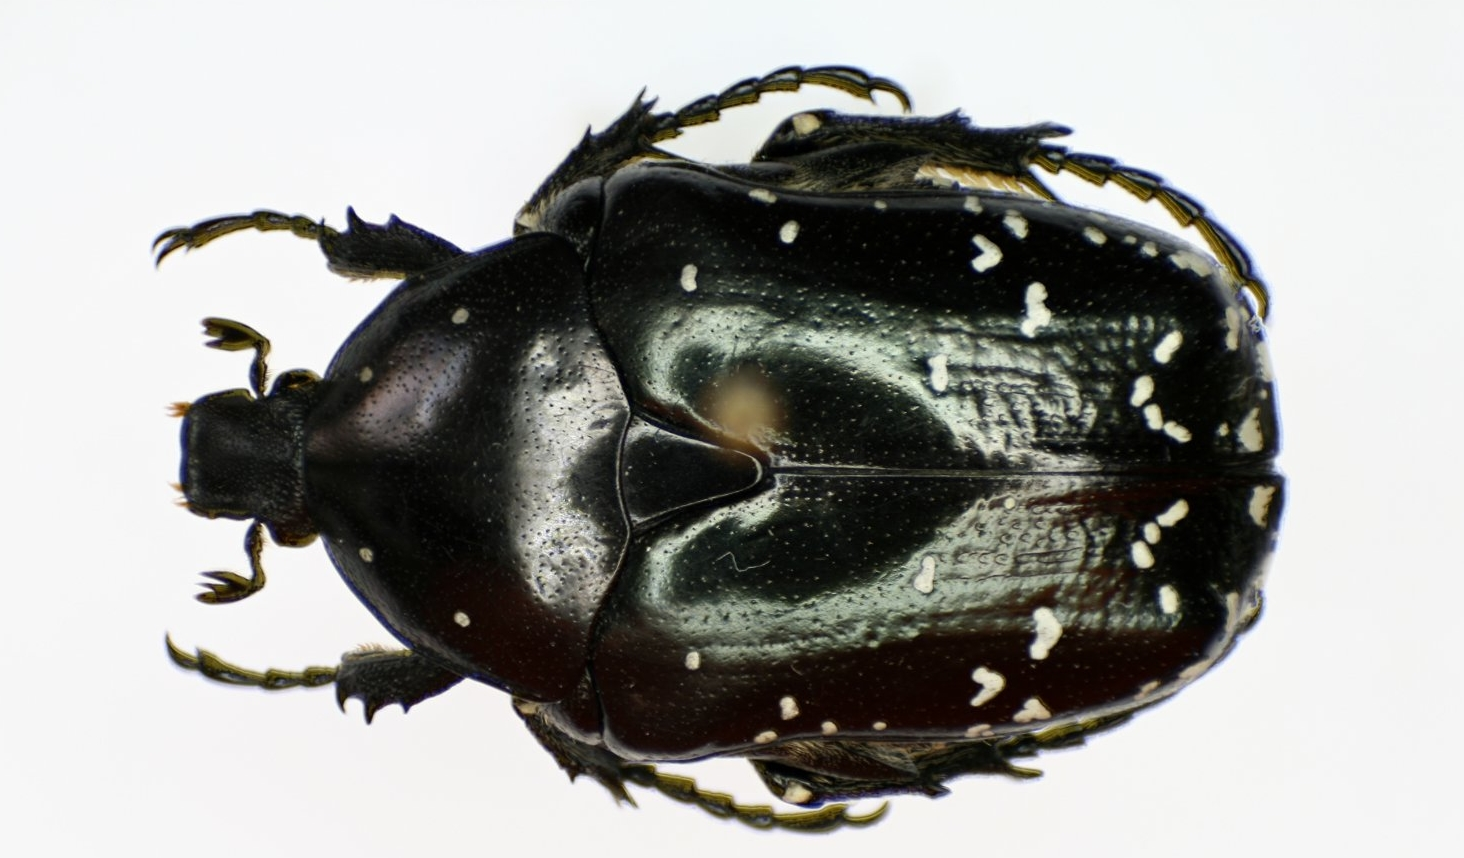Protaetia_funebris: (144, 23, 1310, 849)
